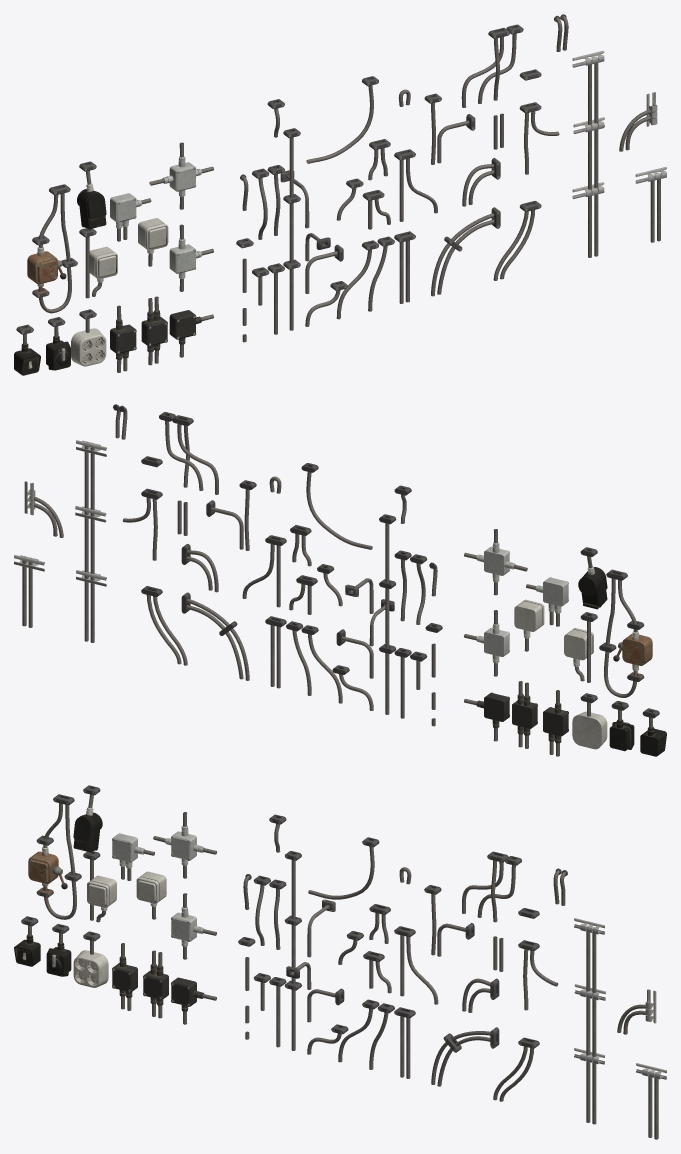
The model's file is modular_electric_cables.glb.
3 renders of one model, top to bottom at view 1: azimuth 30°, elevation 25°; view 2: azimuth 150°, elevation 25°; view 3: azimuth 330°, elevation 25°, orthographic.
Visible parts, largest first — view 1: cable_double_alt_long, cable_switch, cable_plug_4x, cable_3way_junction, cable_lightswitch_double, cable_straight_long, cable_plug_covered_2, cable_double_turn_long, cable_box_double, cable_box_4way, cable_box_3way, cable_box_double_to_single (+14 smaller); view 2: cable_double_alt_long, cable_switch, cable_3way_junction, cable_plug_4x, cable_straight_long, cable_lightswitch_double, cable_double_turn_long, cable_plug_covered_2, cable_box_double, cable_box_4way, cable_box_double_to_single_2, cable_box_3way (+14 smaller); view 3: cable_double_alt_long, cable_switch, cable_plug_4x, cable_3way_junction, cable_straight_long, cable_plug_covered_2, cable_lightswitch_double, cable_box_4way, cable_box_double, cable_double_turn_long, cable_box_3way, cable_box_double_to_single (+14 smaller).
Part boxes in pixels (x1,y1,x2,y2): cable_double_alt_long: (572, 50, 604, 257); cable_switch: (27, 184, 77, 313); cable_plug_4x: (71, 309, 106, 366); cable_3way_junction: (461, 24, 523, 107); cable_lightswitch_double: (79, 228, 117, 298); cable_straight_long: (283, 128, 300, 330); cable_plug_covered_2: (77, 161, 106, 228); cable_double_turn_long: (431, 207, 500, 296); cable_box_double: (141, 296, 167, 365); cable_box_4way: (149, 142, 213, 209); cable_box_3way: (169, 224, 213, 291); cable_box_double_to_single: (110, 305, 136, 372); cable_double_alt_long: (75, 440, 106, 642); cable_switch: (599, 569, 652, 697); cable_3way_junction: (159, 412, 218, 494); cable_plug_4x: (572, 693, 607, 749); cable_straight_long: (379, 514, 396, 714); cable_lightswitch_double: (564, 612, 597, 682); cable_double_turn_long: (181, 592, 249, 680); cable_plug_covered_2: (578, 547, 607, 609); cable_box_double: (512, 681, 537, 748); cable_box_4way: (464, 529, 527, 595); cable_box_double_to_single_2: (526, 577, 568, 626); cable_box_3way: (464, 610, 509, 676); cable_double_alt_long: (574, 918, 605, 1124); cable_switch: (28, 794, 81, 919); cable_plug_4x: (73, 931, 108, 987); cable_3way_junction: (462, 851, 521, 922); cable_straight_long: (284, 851, 301, 1050); cable_plug_covered_2: (73, 785, 102, 852); cable_lightswitch_double: (83, 851, 116, 922); cable_box_4way: (153, 812, 216, 878); cable_box_double: (143, 950, 168, 1018); cable_double_turn_long: (431, 1027, 499, 1086); cable_box_3way: (171, 893, 216, 959); cable_box_double_to_single: (112, 943, 137, 1010).
Bounding box in the file's own units: 2.08 × 0.7573 × 0.2145.
2 materials, 2 textured.
